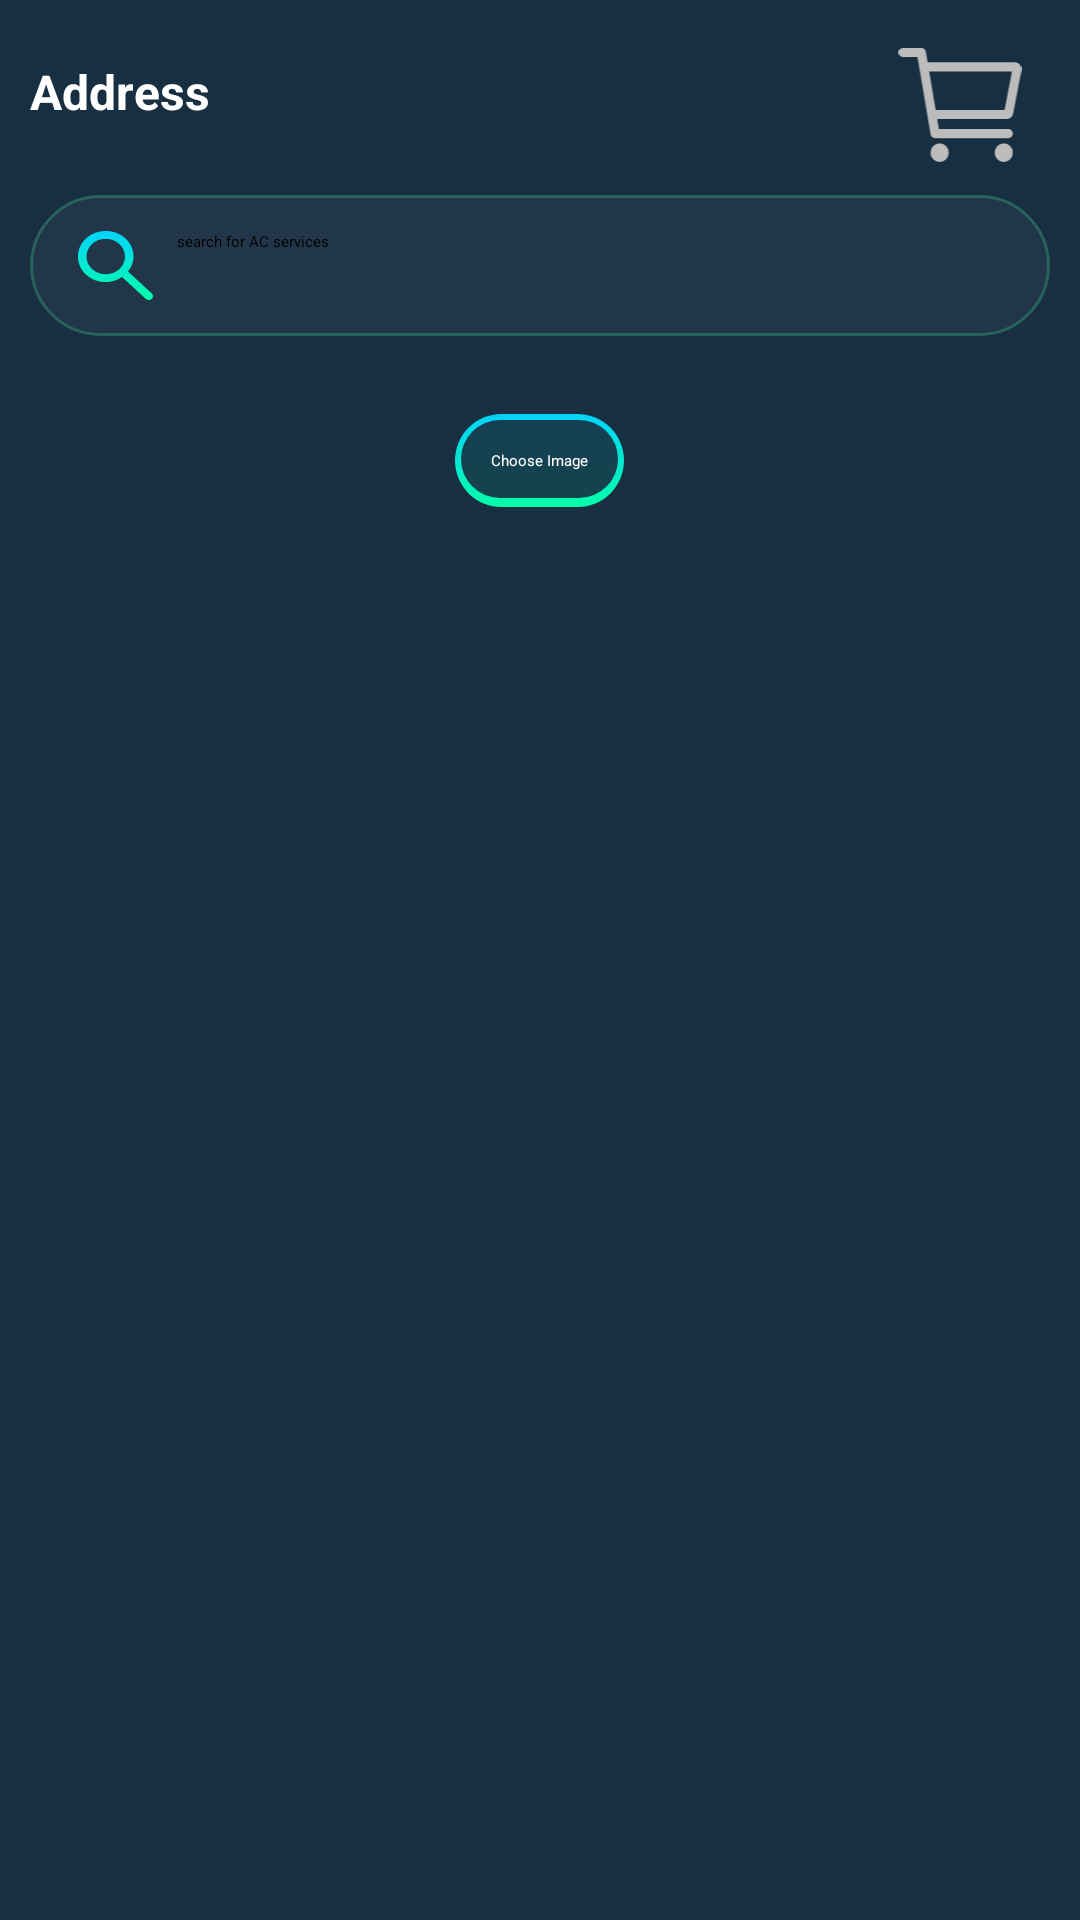

Screen size 1080x1920. Icon name, then its center in pixels as point (x, y):
shopping cart: point (960, 105)
